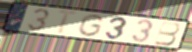3: (25, 8, 52, 32), (104, 16, 129, 41), (130, 19, 154, 44)
B: (152, 20, 181, 46)
G: (76, 13, 106, 38)
T: (56, 9, 81, 36)
